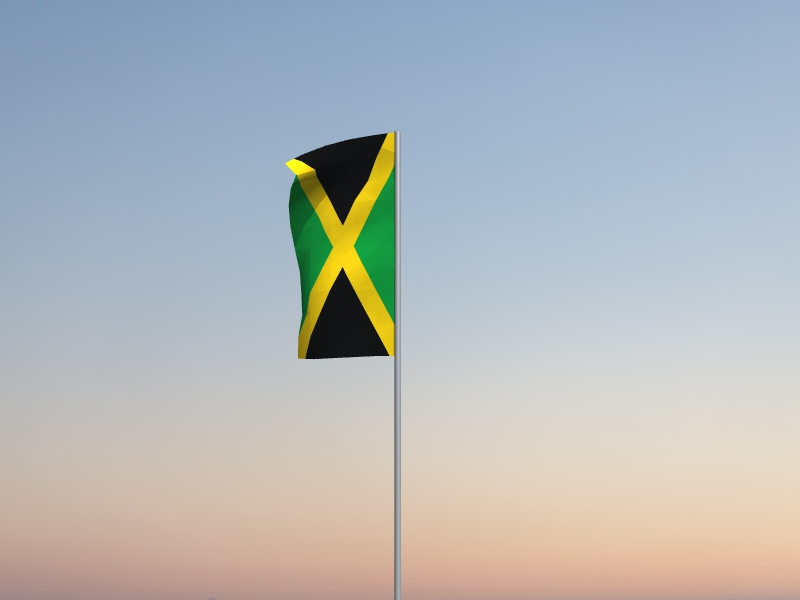jm: (285, 133, 395, 361)
